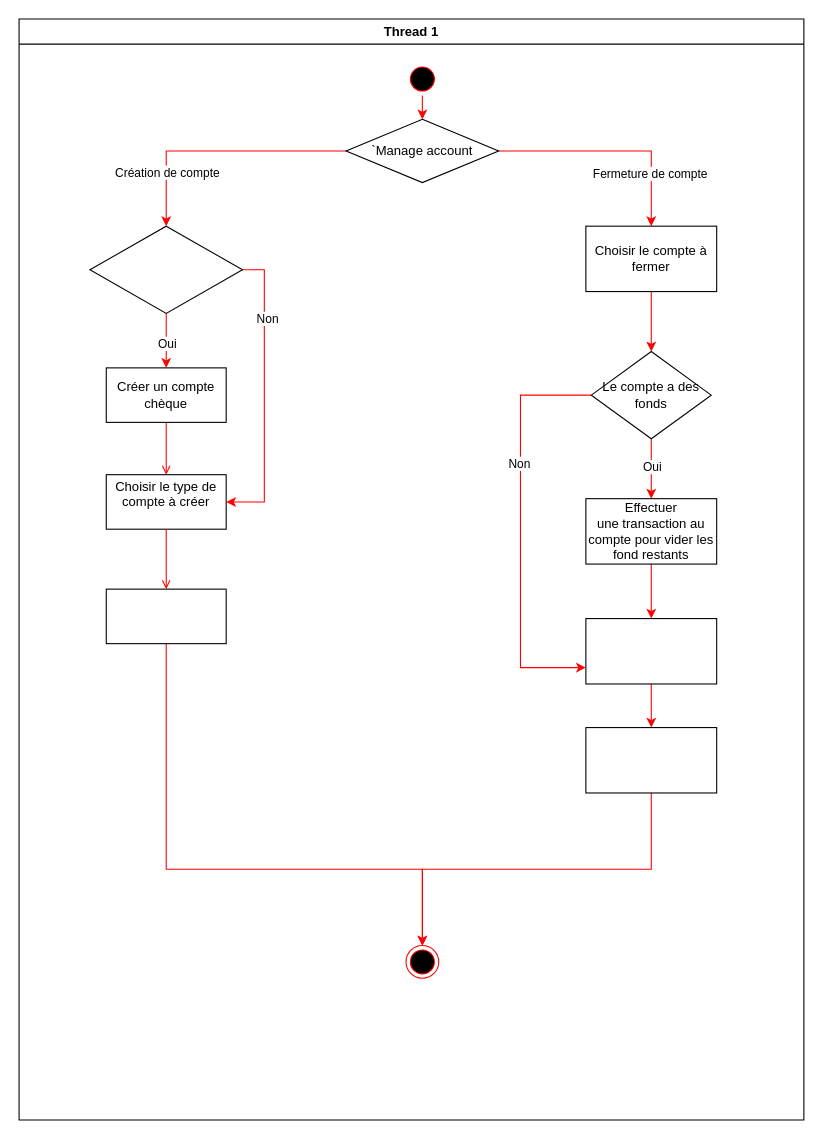
Some shapes in this 823 by 1139 pixel diagram are drawn without their labels. The shapes that lost their labels are listed below. From the top down, each one's centre as x and y in pixels, then its label:
the point at 166,269: Est-ce le premier compte du client?
the point at 165,616: Soumettre la création de compte
the point at 651,650: Confirmer la sélection
the point at 651,759: Confirmer la fermeture du compte
